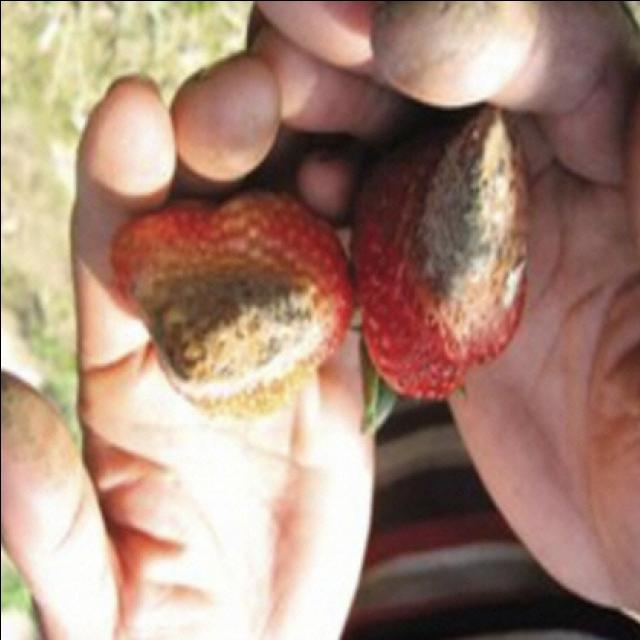Gray Mold: (106, 191, 356, 421), (363, 98, 529, 392)
